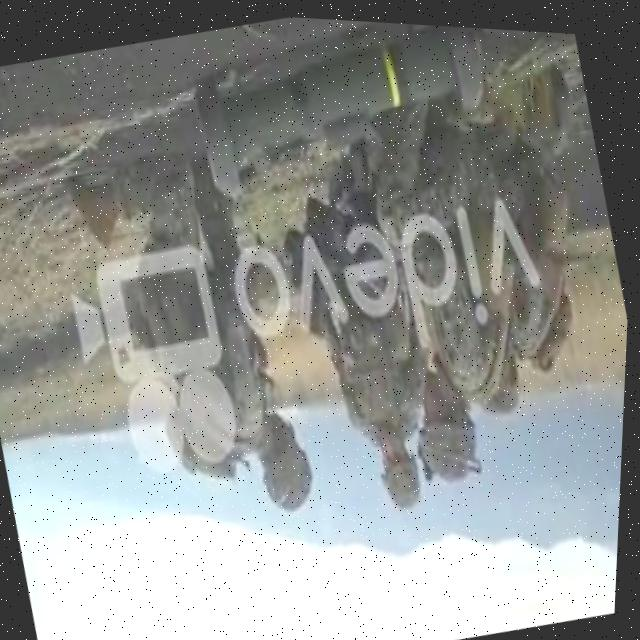rocket: (177, 9, 506, 215)
